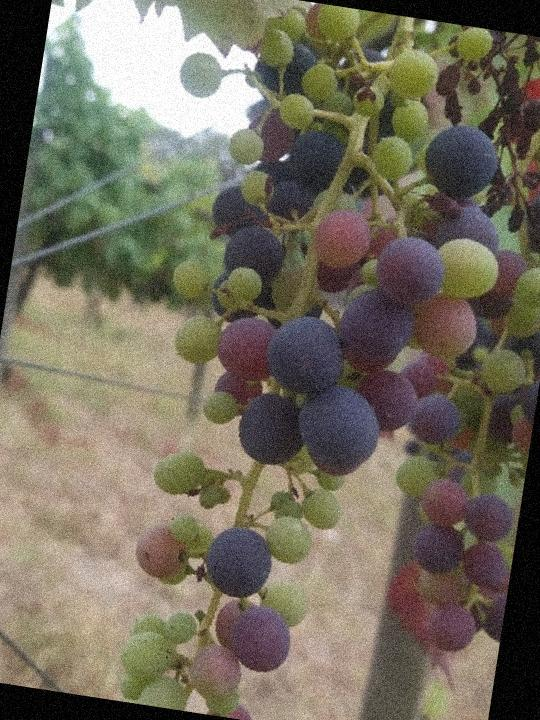grape: (66, 0, 540, 720), (370, 150, 540, 680), (416, 0, 540, 253)
